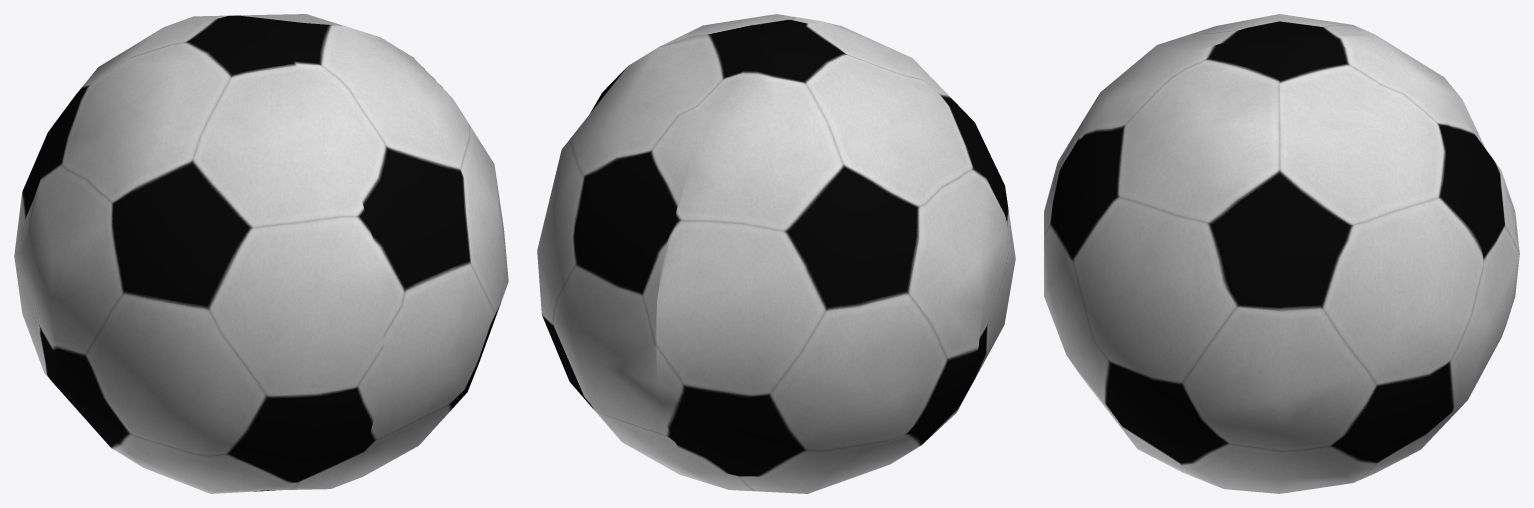
File: soccer_LOD2.fbx
3 views of the same model, side by side, from view 1: azimuth 30°, elevation 25°; view 2: azimuth 150°, elevation 25°; view 3: azimuth 270°, elevation 25° (orthographic). The views are drawn at different scales.
Visible parts, largest first — view 1: Soccer; view 2: Soccer; view 3: Soccer.
Boxes of the visible parts, x1=… form: Soccer: x1=14, y1=14, x2=508, y2=493; Soccer: x1=537, y1=14, x2=1015, y2=493; Soccer: x1=1044, y1=14, x2=1519, y2=493.
Size of the model in its own units: 147 by 148 by 147.
1 material, 1 textured.
